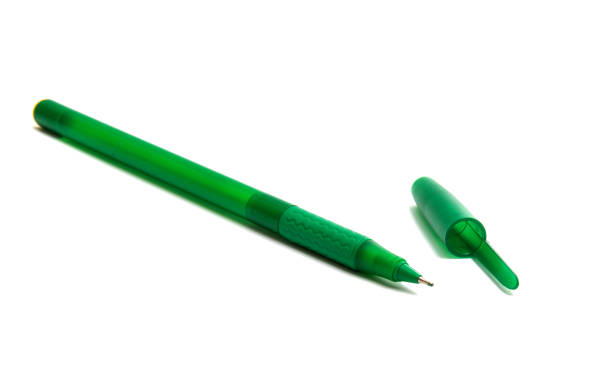pen: (29, 94, 530, 313)
